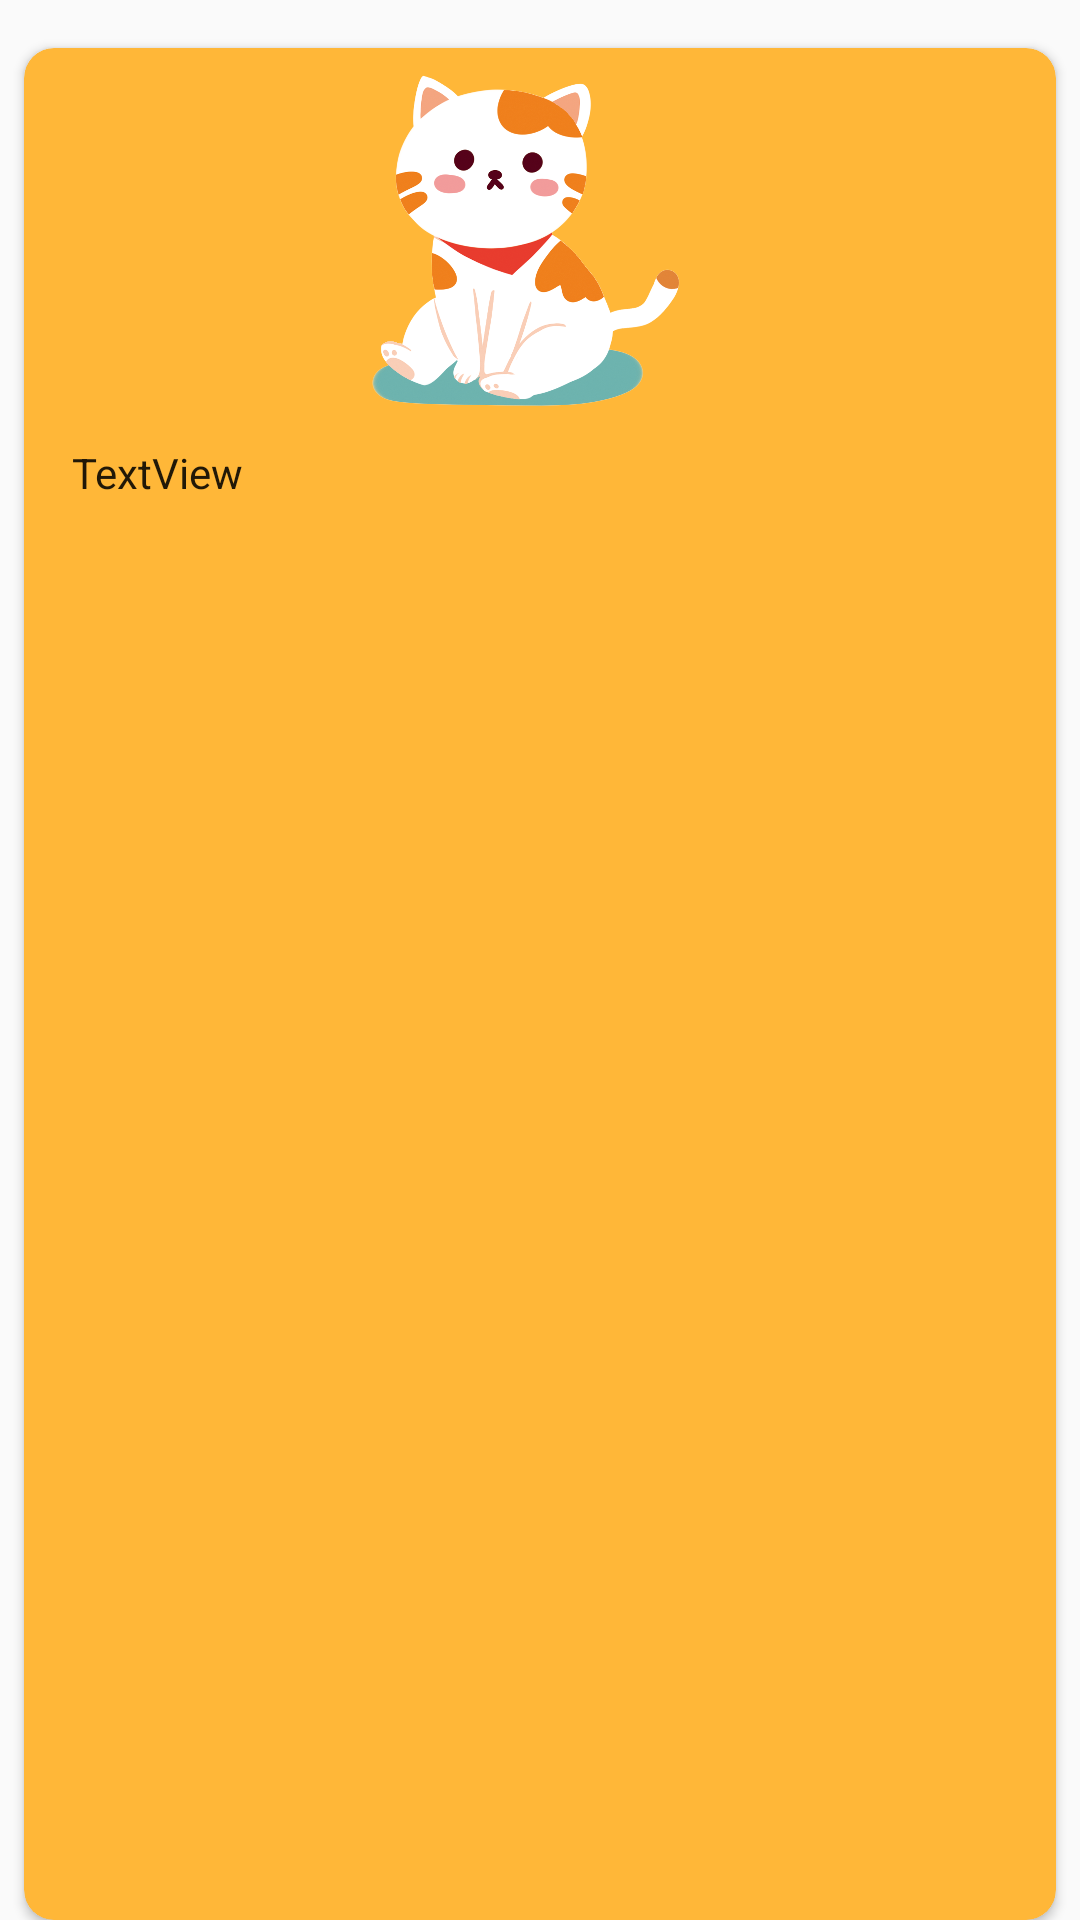

Locate icon controls on the screen. Image size 1080 x 1920, boxes as Rect(x1, y1, x2, y2).
cat: Rect(372, 76, 679, 406)
